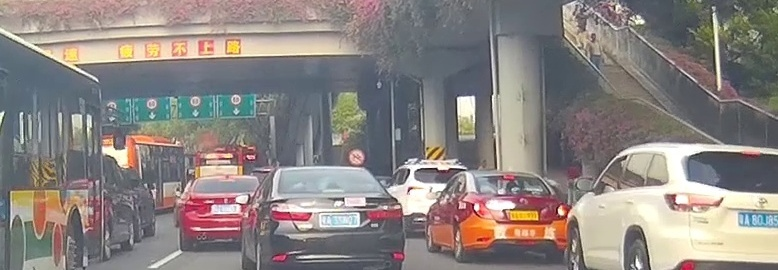L_light: (269, 200, 313, 222), (473, 201, 496, 220)
R_light: (366, 202, 403, 221), (552, 201, 568, 221)
T_light: (322, 188, 345, 193), (503, 175, 515, 179)
day-no: (262, 166, 405, 270)
day-right: (462, 170, 569, 262)
